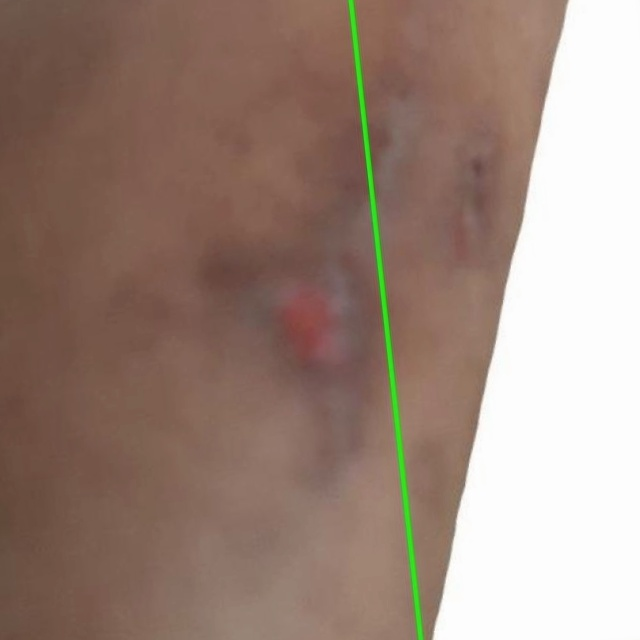Atopic Dermatitis: (350, 0, 639, 639)
